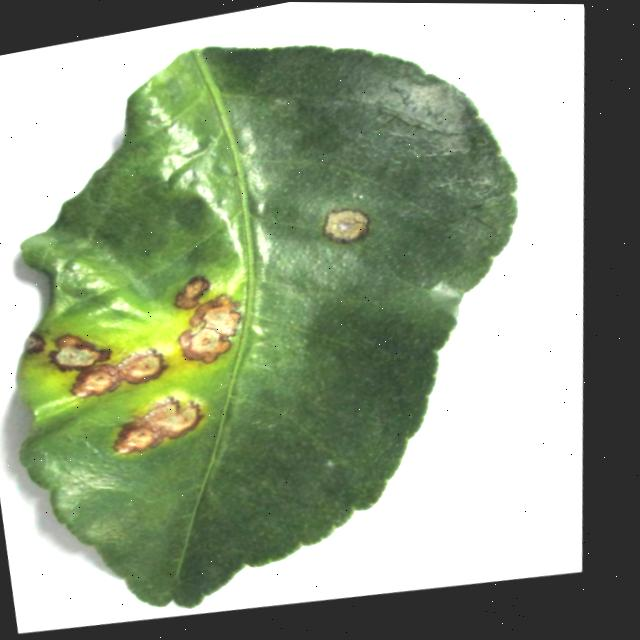antracnose: (19, 46, 516, 607), (113, 398, 202, 454), (49, 335, 110, 372), (190, 295, 239, 336), (178, 329, 230, 364), (117, 350, 165, 384), (70, 365, 121, 397), (322, 209, 368, 243), (174, 276, 209, 309), (24, 332, 45, 353)
